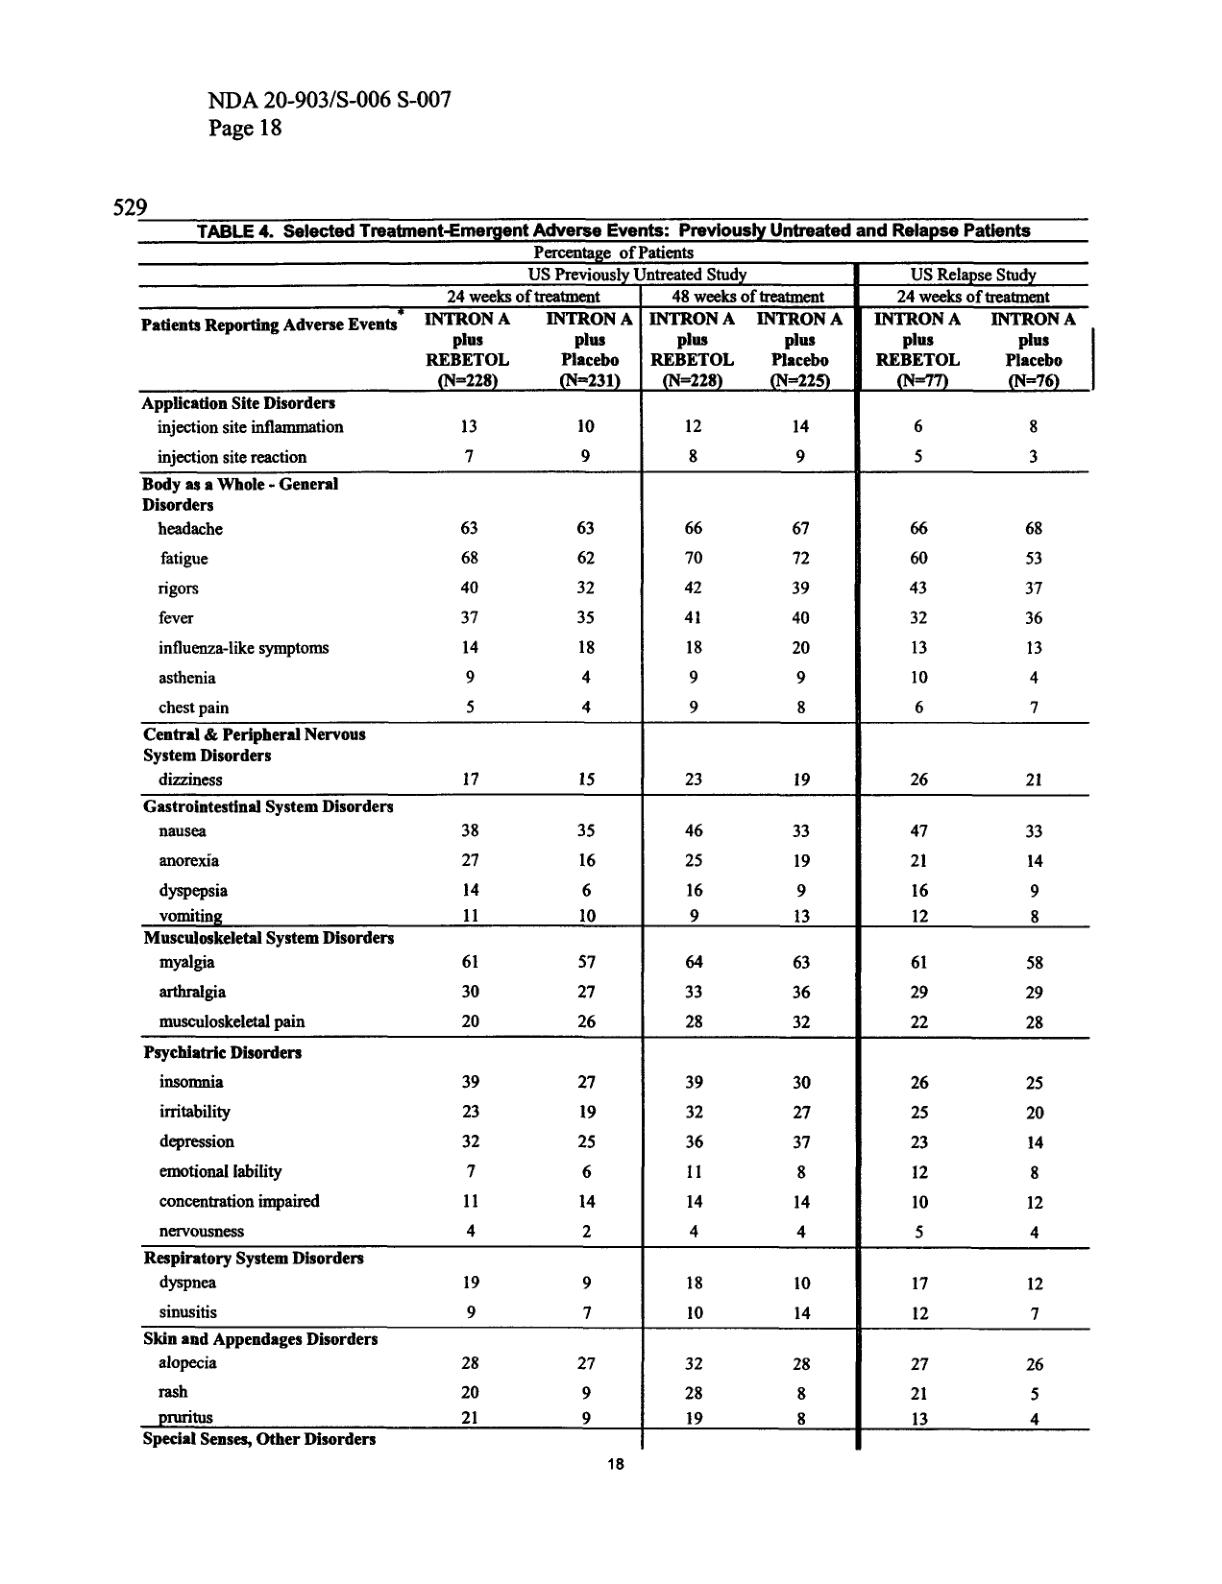partial_lined_merged_cells: (135, 217, 1100, 1433)
